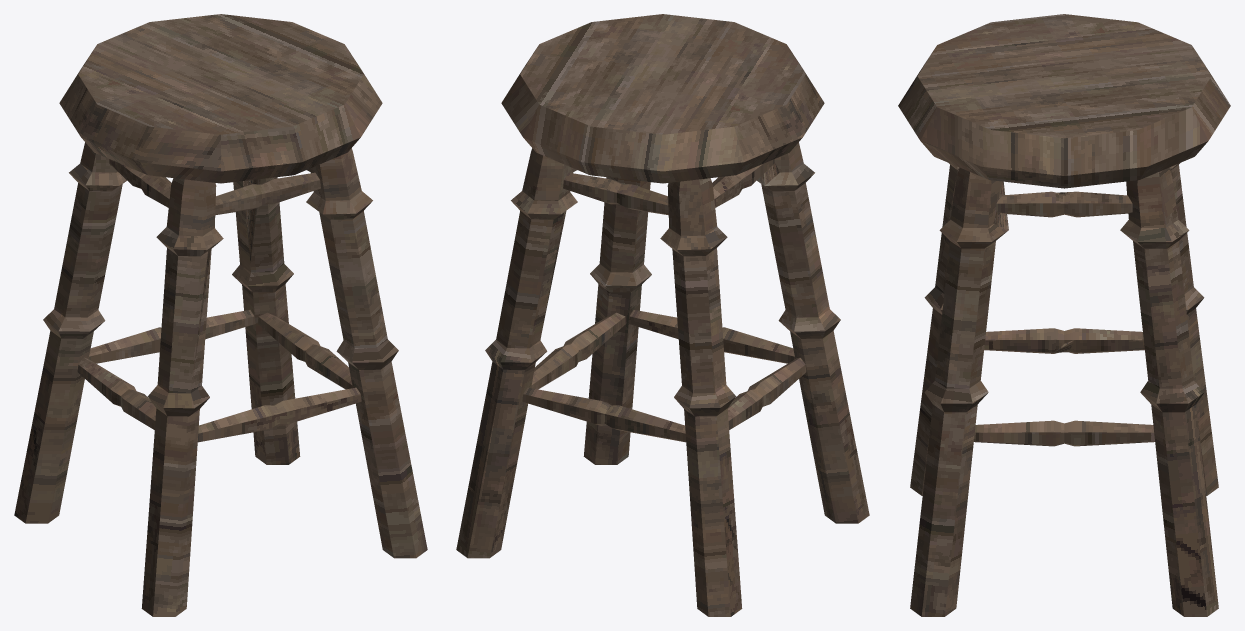
The model's file is item_wooden_stool.glb.
The picture shows the model from 3 angles, left to right: view 1: azimuth 30°, elevation 25°; view 2: azimuth 150°, elevation 25°; view 3: azimuth 270°, elevation 25°; orthographic projection. The views are drawn at different scales.
Visible parts, largest first — view 1: Circle.001; view 2: Circle.001; view 3: Circle.001.
Part boxes in pixels (x1,y1,x2,y2): Circle.001: [14, 14, 427, 616]; Circle.001: [456, 14, 869, 616]; Circle.001: [898, 14, 1230, 616].
Size of the model in its own units: 0.5026 by 0.786 by 0.5026.
Materials: 1 (1 with a texture image).
